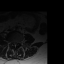CCS_normal: (14, 41, 16, 49)
LFS_severe_stenosis: (17, 41, 18, 45)
LLS_stenosis: (15, 41, 17, 45)
RFS_severe_stenosis: (11, 41, 13, 45)
RLS_severe_stenosis: (13, 41, 14, 45)
